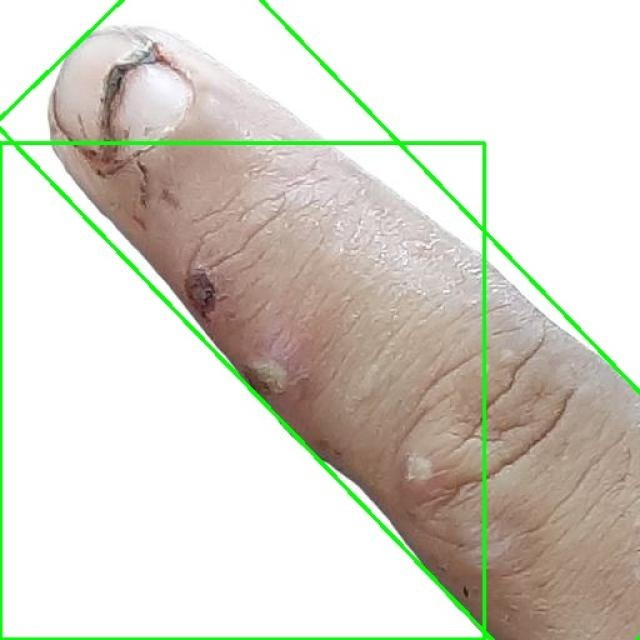Scabies: (0, 0, 640, 640), (0, 142, 484, 639)
